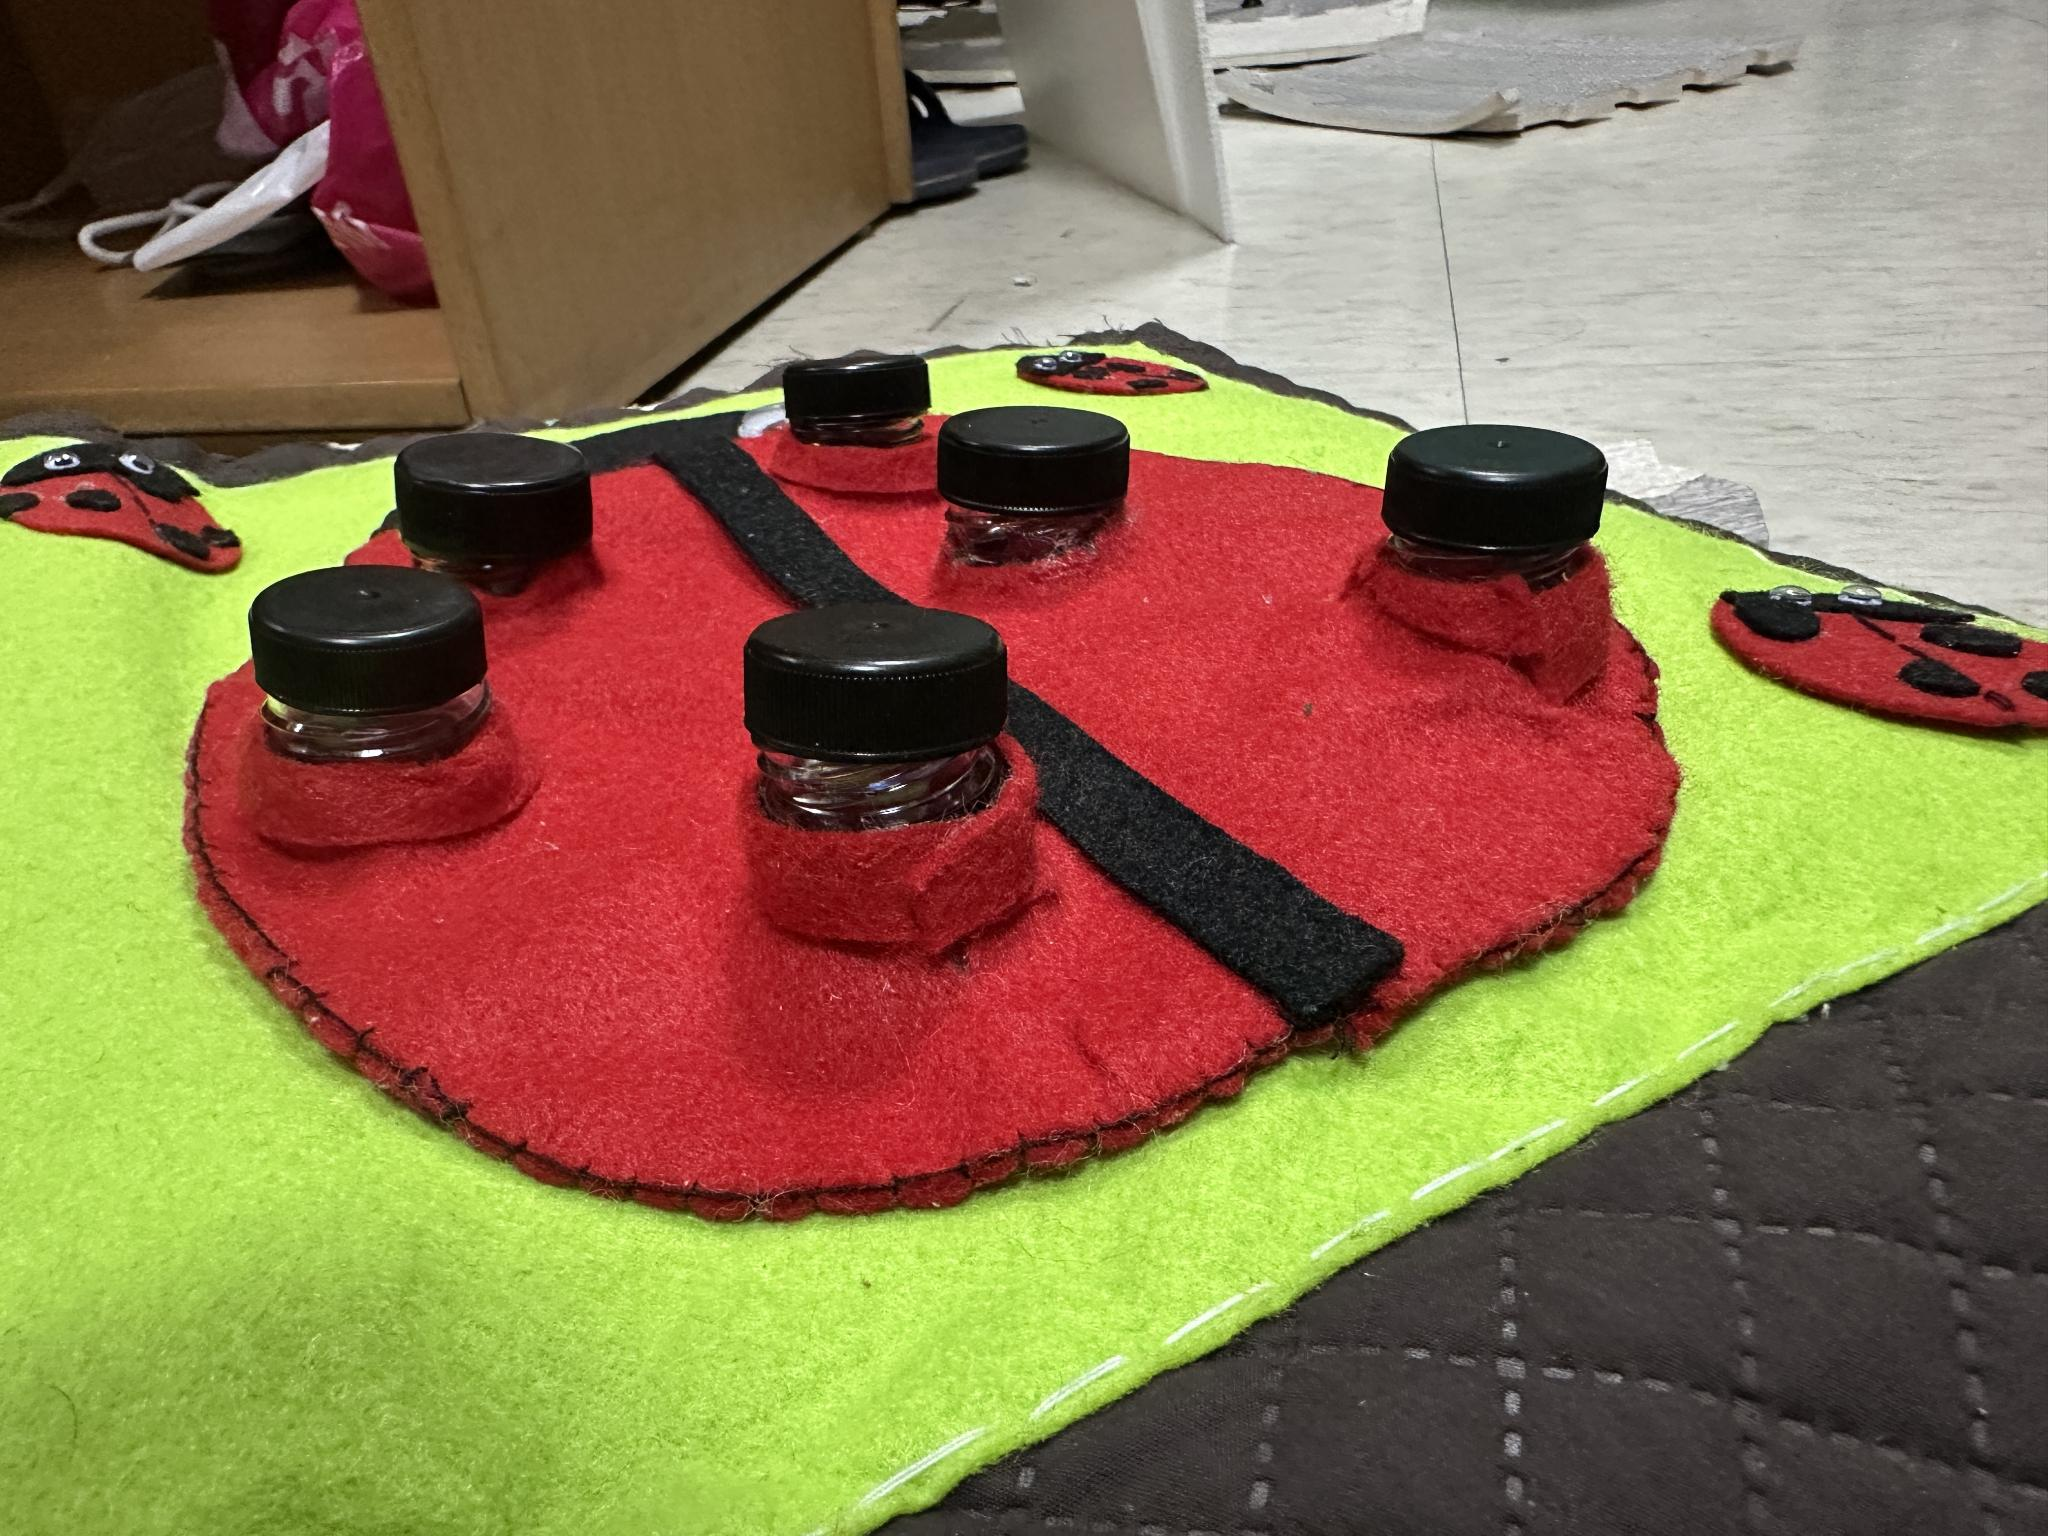cap_ng: (685, 573, 1040, 979), (168, 557, 569, 868), (1347, 400, 1617, 729), (376, 415, 626, 620), (945, 392, 1159, 592), (774, 349, 945, 508)
